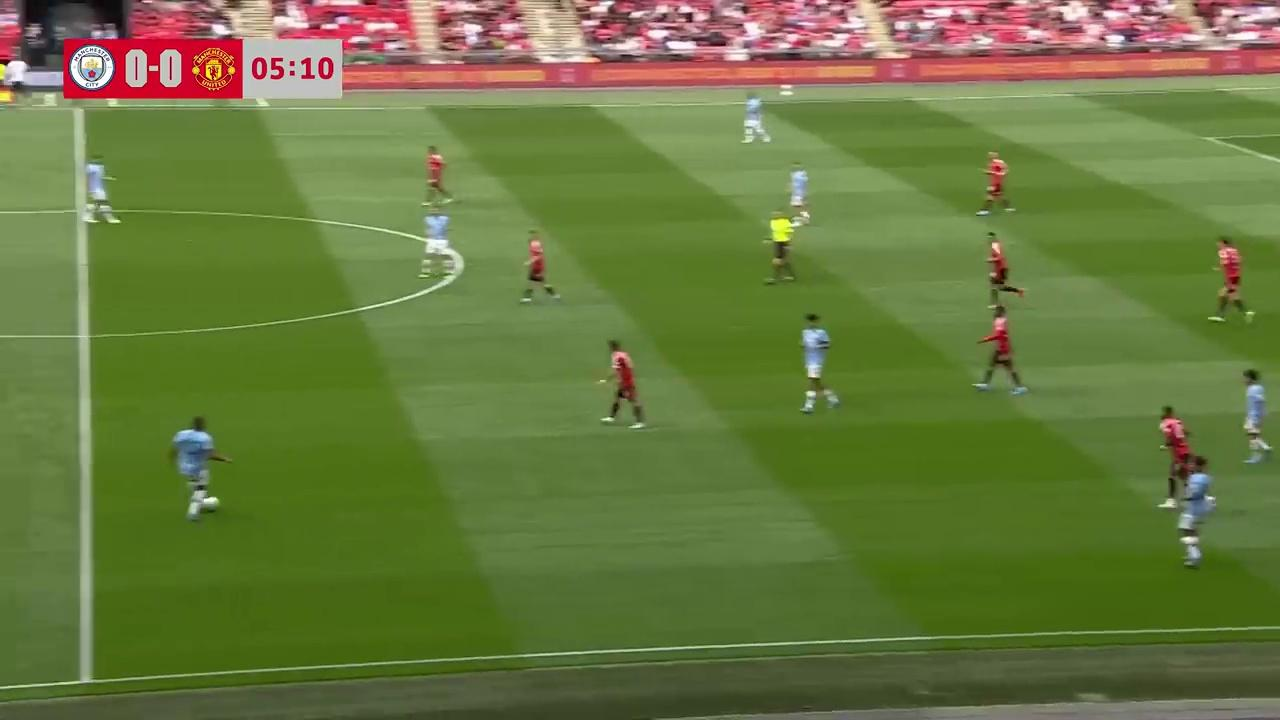player: (168, 415, 232, 521), (1162, 453, 1218, 567), (972, 304, 1029, 395), (595, 340, 648, 427), (798, 312, 840, 415), (1157, 405, 1198, 507), (1208, 237, 1254, 324), (1240, 368, 1275, 464), (518, 233, 562, 304), (985, 233, 1026, 307), (419, 208, 461, 275), (83, 157, 119, 224), (978, 152, 1014, 215), (741, 92, 771, 144), (787, 164, 811, 225), (424, 146, 446, 204)
referee: (763, 209, 796, 283)
